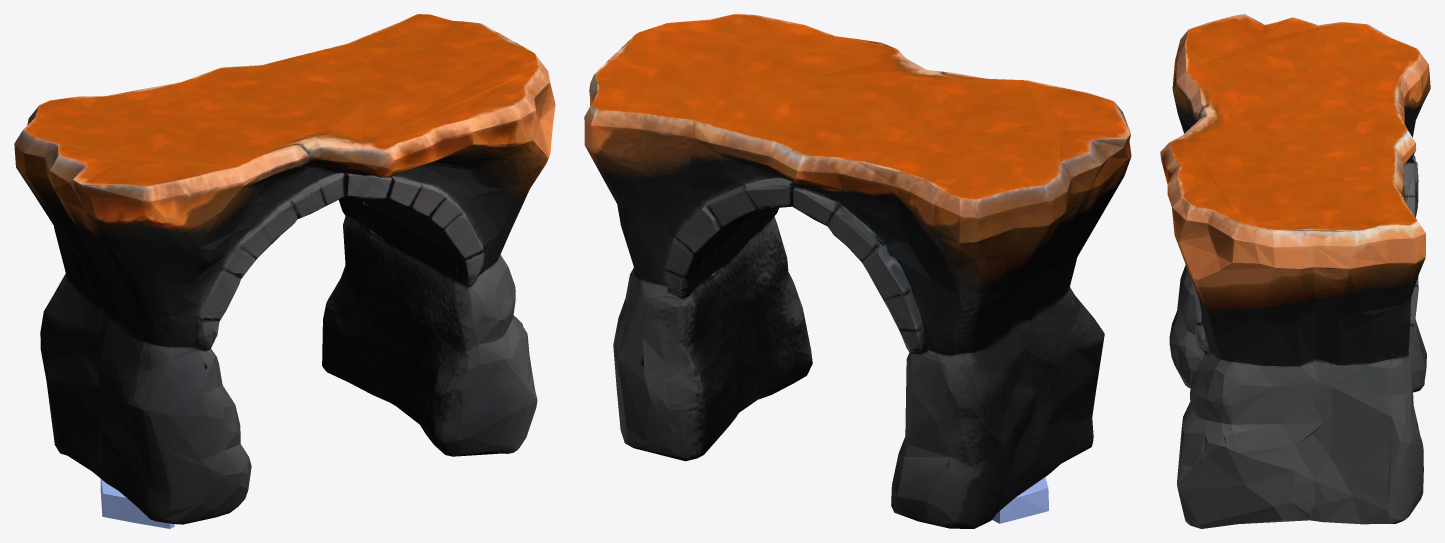
File: landmark_obsidian_arch_01.glb
The picture shows the model from 3 angles, left to right: view 1: azimuth 30°, elevation 25°; view 2: azimuth 150°, elevation 25°; view 3: azimuth 270°, elevation 25°; orthographic projection. The views are drawn at different scales.
Visible parts, largest first — view 1: geometry_0; view 2: geometry_0; view 3: geometry_0.
Boxes of the visible parts, x1,y1,x2,y2 form: geometry_0: (14,14,555,528); geometry_0: (584,14,1131,528); geometry_0: (1160,14,1430,528).
Size of the model in its own units: 0.9991 by 0.7295 by 0.5178.
1 material, 1 textured.
